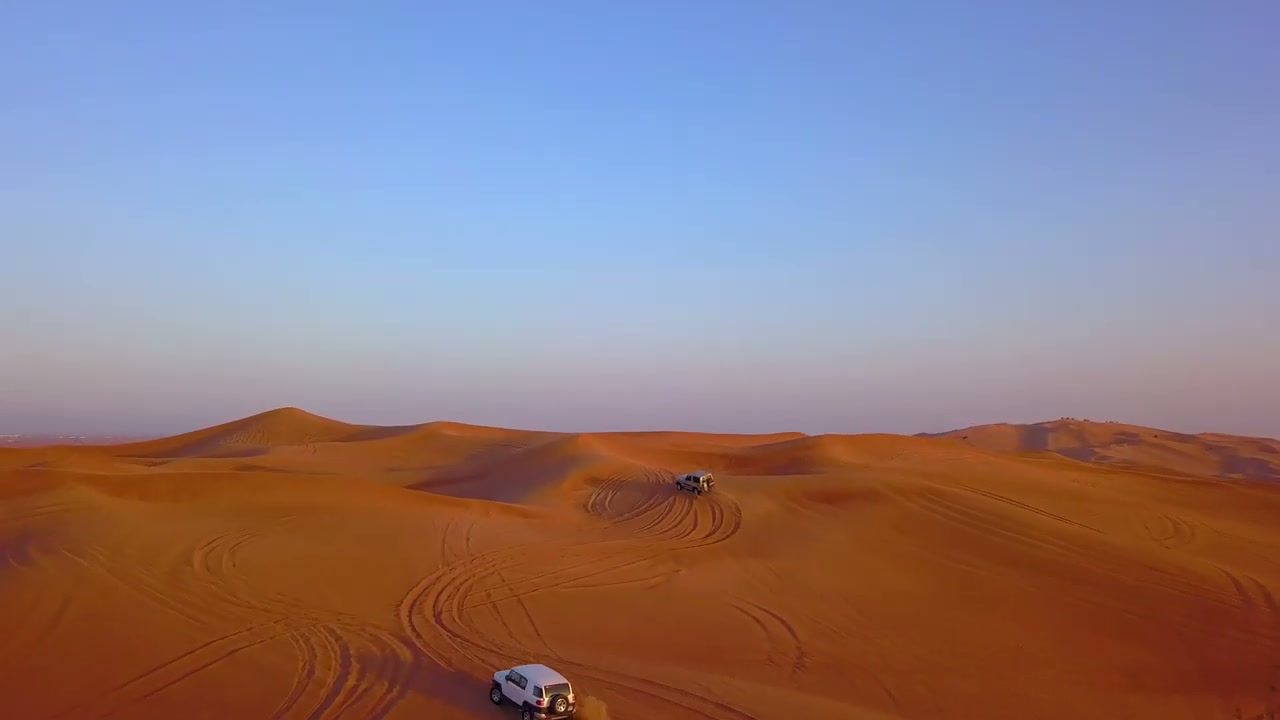vehicle_track: (398, 545, 755, 719), (47, 618, 301, 719), (317, 624, 408, 719), (956, 484, 1104, 533), (732, 600, 809, 677)
